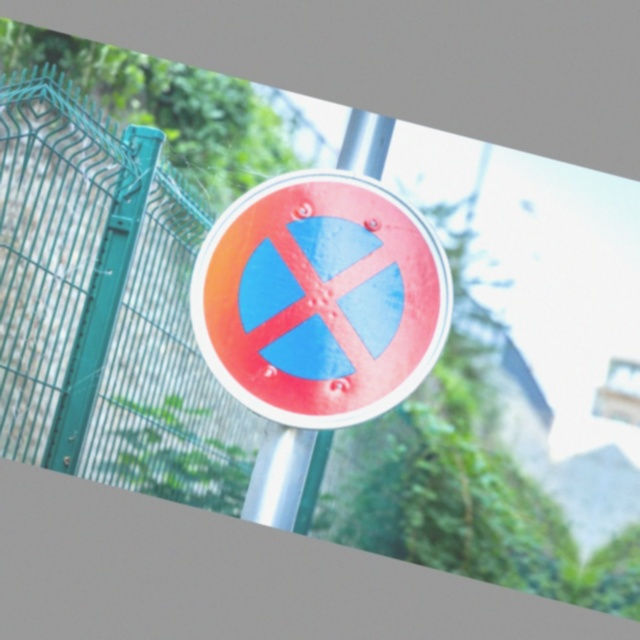No_Stopping_or_Standing: (170, 158, 477, 446)
